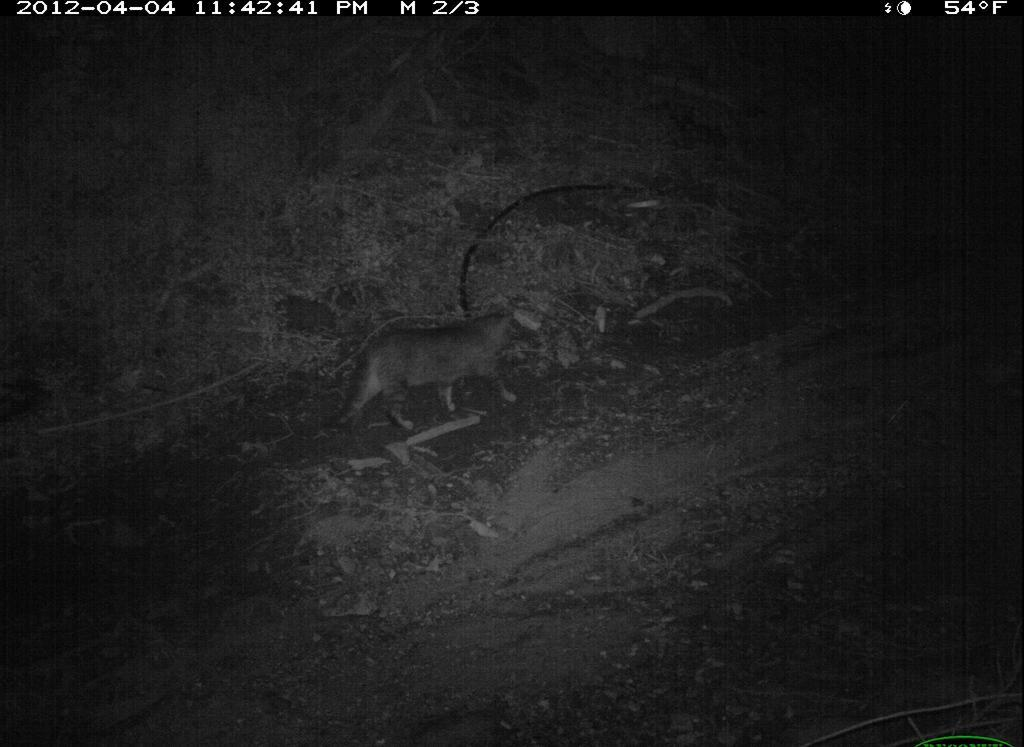cat: (312, 300, 556, 445)
